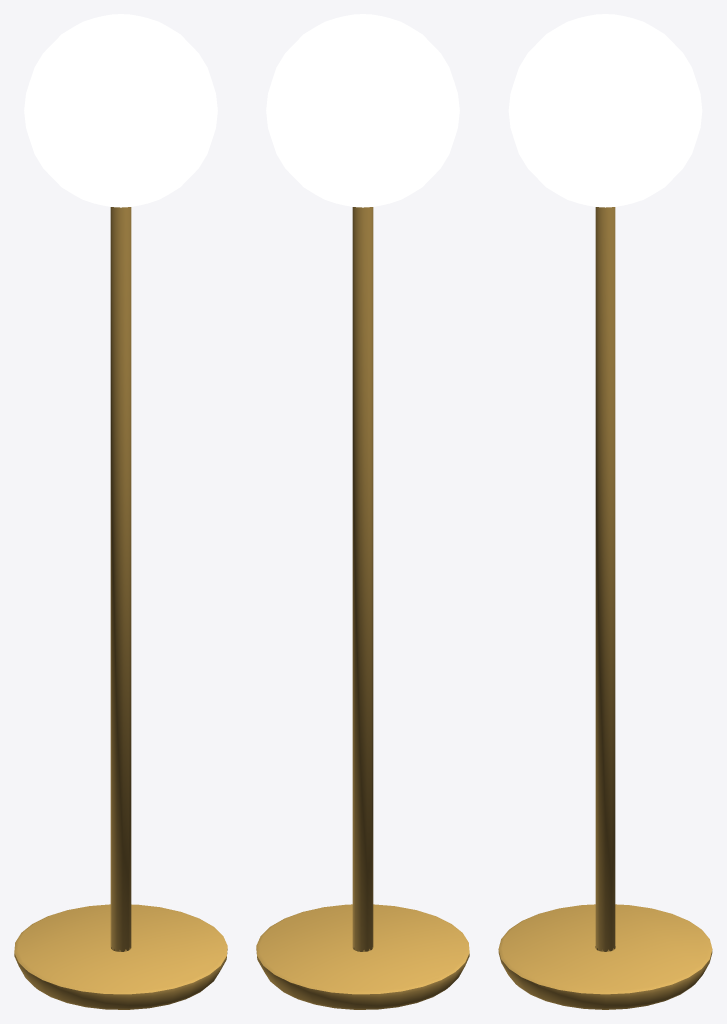
Rendered from floor-lamp-globe.glb.
3 views of the same model, side by side, from view 1: azimuth 30°, elevation 25°; view 2: azimuth 150°, elevation 25°; view 3: azimuth 270°, elevation 25° (orthographic).
Parts seen in each view (by area): view 1: floor-lamp-globe; view 2: floor-lamp-globe; view 3: floor-lamp-globe.
Boxes of the visible parts, left/top/right/bottom form: floor-lamp-globe: left=14, top=14, right=227, bottom=1009; floor-lamp-globe: left=256, top=14, right=469, bottom=1009; floor-lamp-globe: left=498, top=14, right=712, bottom=1009.
Size of the model in its own units: 0.3315 by 1.62 by 0.3315.
